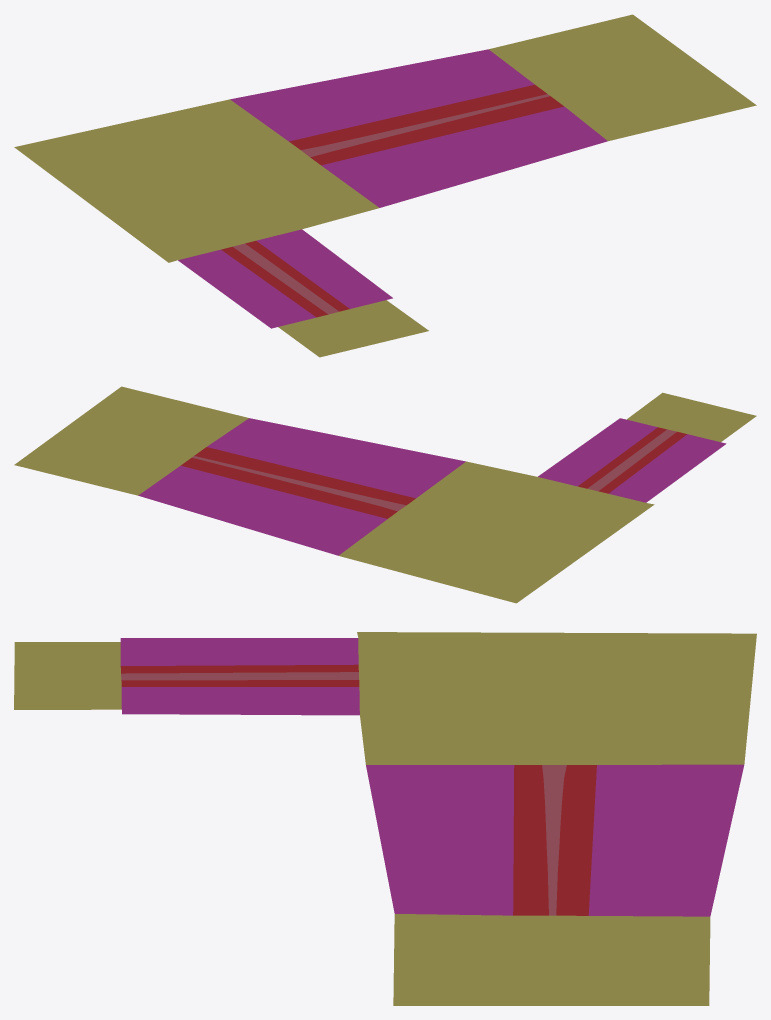
The model's file is Advertising-Hell-Floor-World-Whitebox-Draft-2.fbx.
The picture shows the model from 3 angles, top to bottom: view 1: azimuth 30°, elevation 25°; view 2: azimuth 150°, elevation 25°; view 3: azimuth 270°, elevation 25°; orthographic projection. The views are drawn at different scales.
Visible parts, largest first — view 1: Advertising-Hell-Plane; view 2: Advertising-Hell-Plane; view 3: Advertising-Hell-Plane.
Part boxes in pixels (bbox=[...]): Advertising-Hell-Plane: bbox=[14, 14, 756, 357]; Advertising-Hell-Plane: bbox=[14, 386, 756, 603]; Advertising-Hell-Plane: bbox=[14, 632, 756, 1005].
Size of the model in its own units: 35345 by 0 by 29676.
